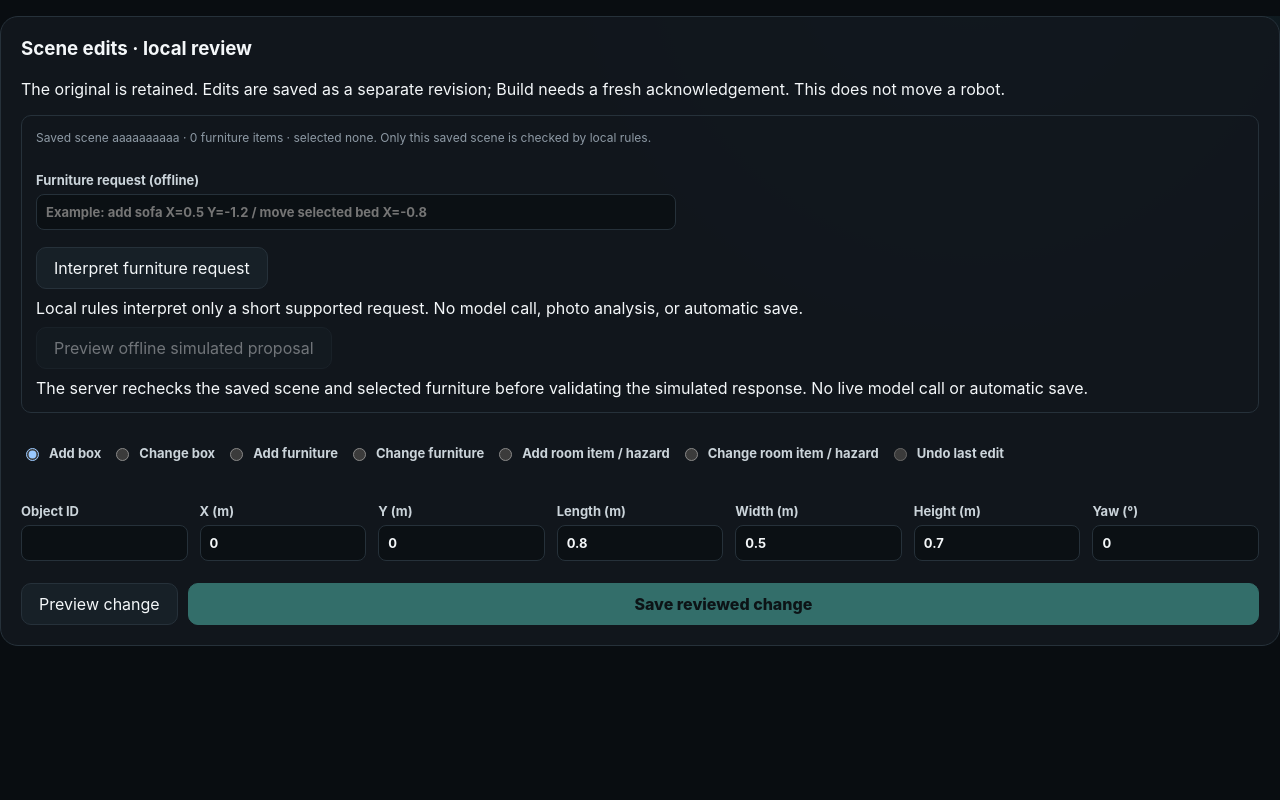
scene edit review › shows a dismissible error popup for a failed edit request
In the field labelled "Furniture request": point(356, 212) [36,194,676,230], type "의자 추가 X=0.5 Y=0.5"
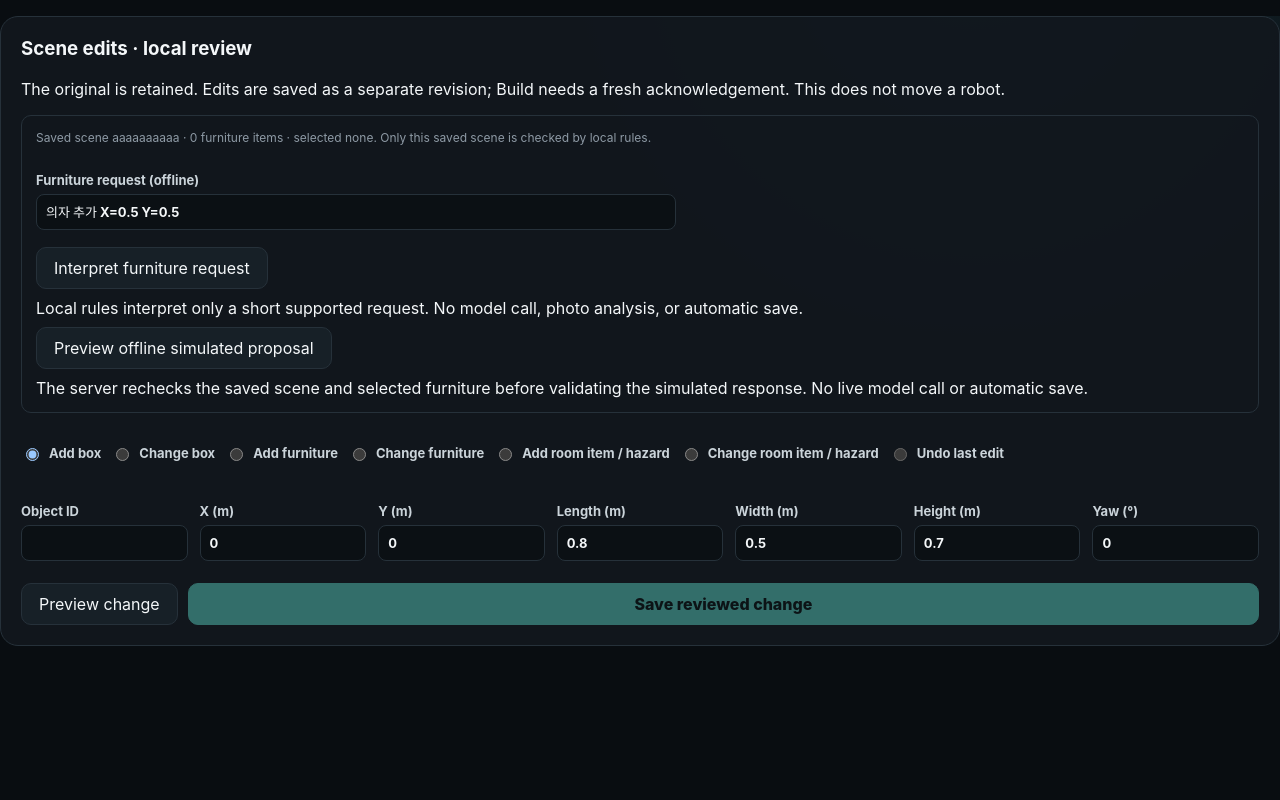
Click the button "Preview offline simulated proposal": point(184, 348) [36,327,332,369]
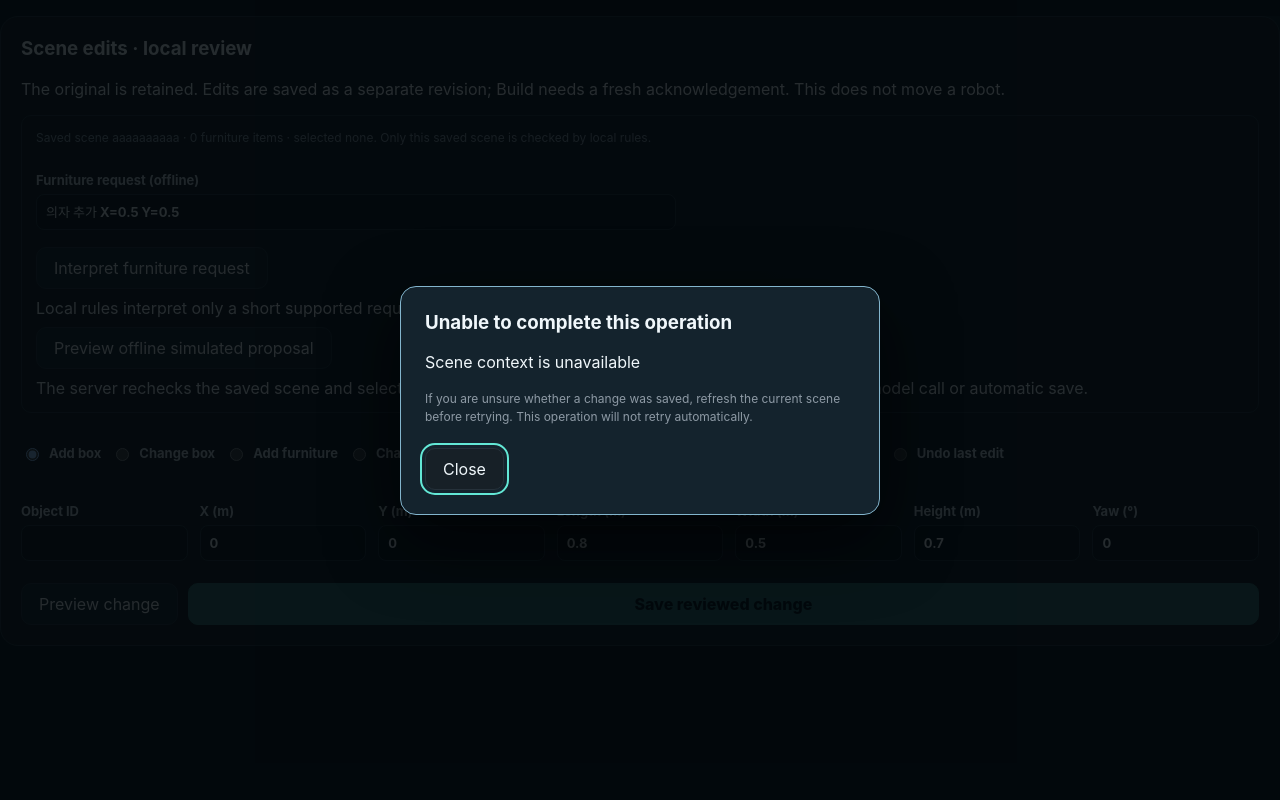
Check: the dialog shows "Scene context is unavailable", box [425,352,640,372]
Check: the dialog shows "will not retry automatically", box [425,390,840,424]
Click the button "Close": point(464, 468) [425,448,504,490]
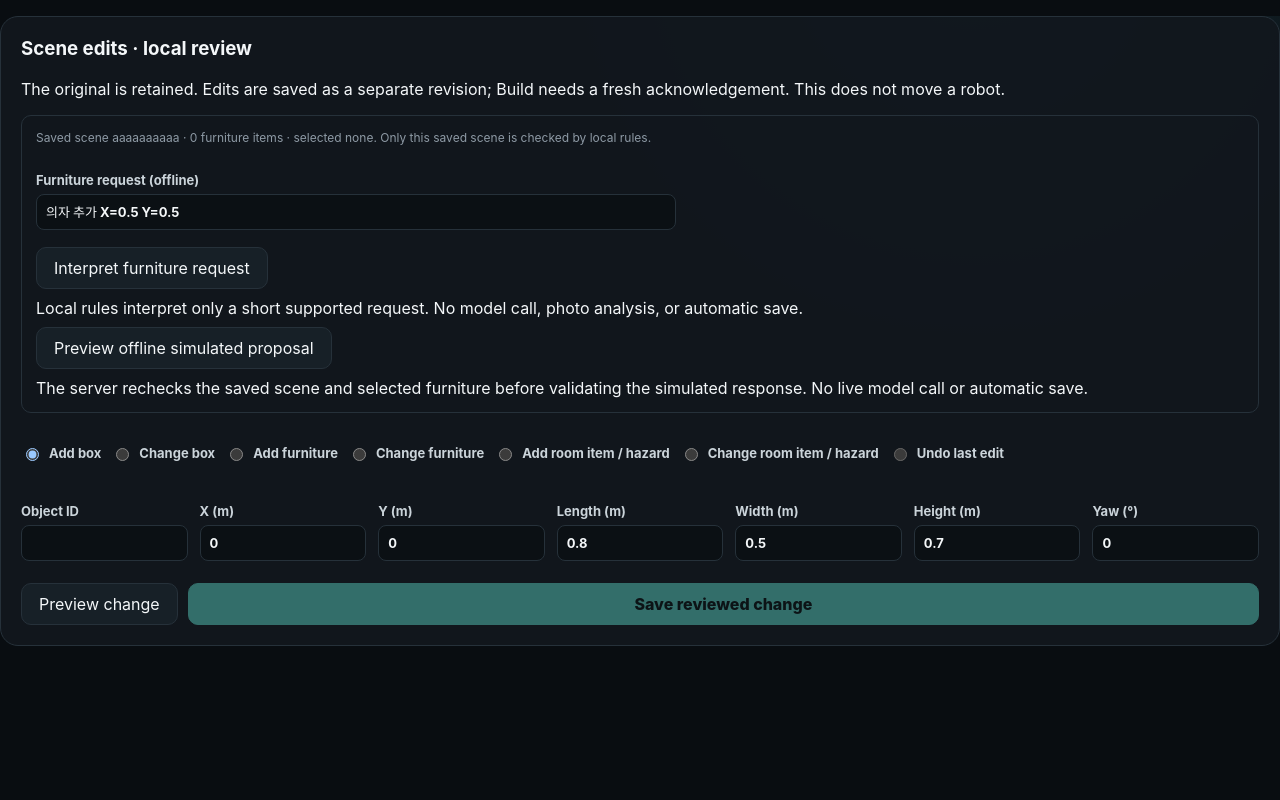
Check: the dialog is gone
